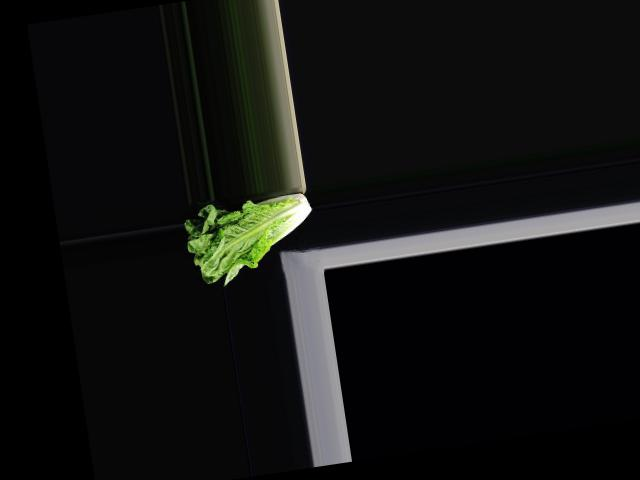lettuce: (179, 189, 322, 289)
